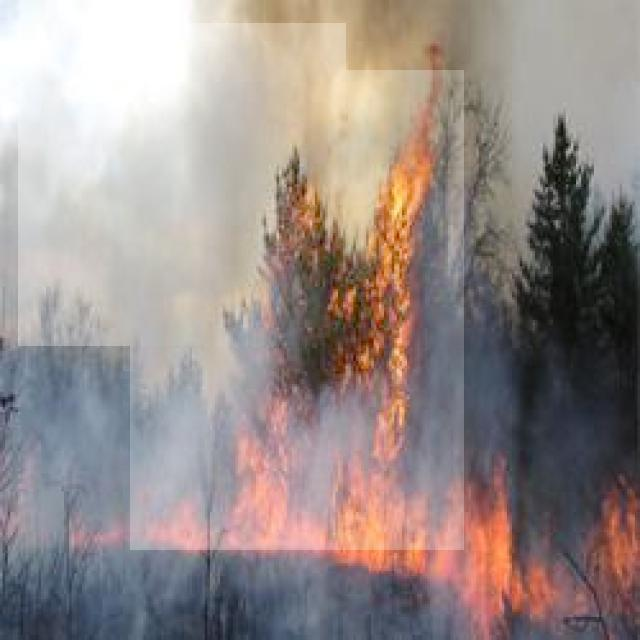Fire: (130, 70, 464, 550)
Smoke: (18, 23, 346, 346)
